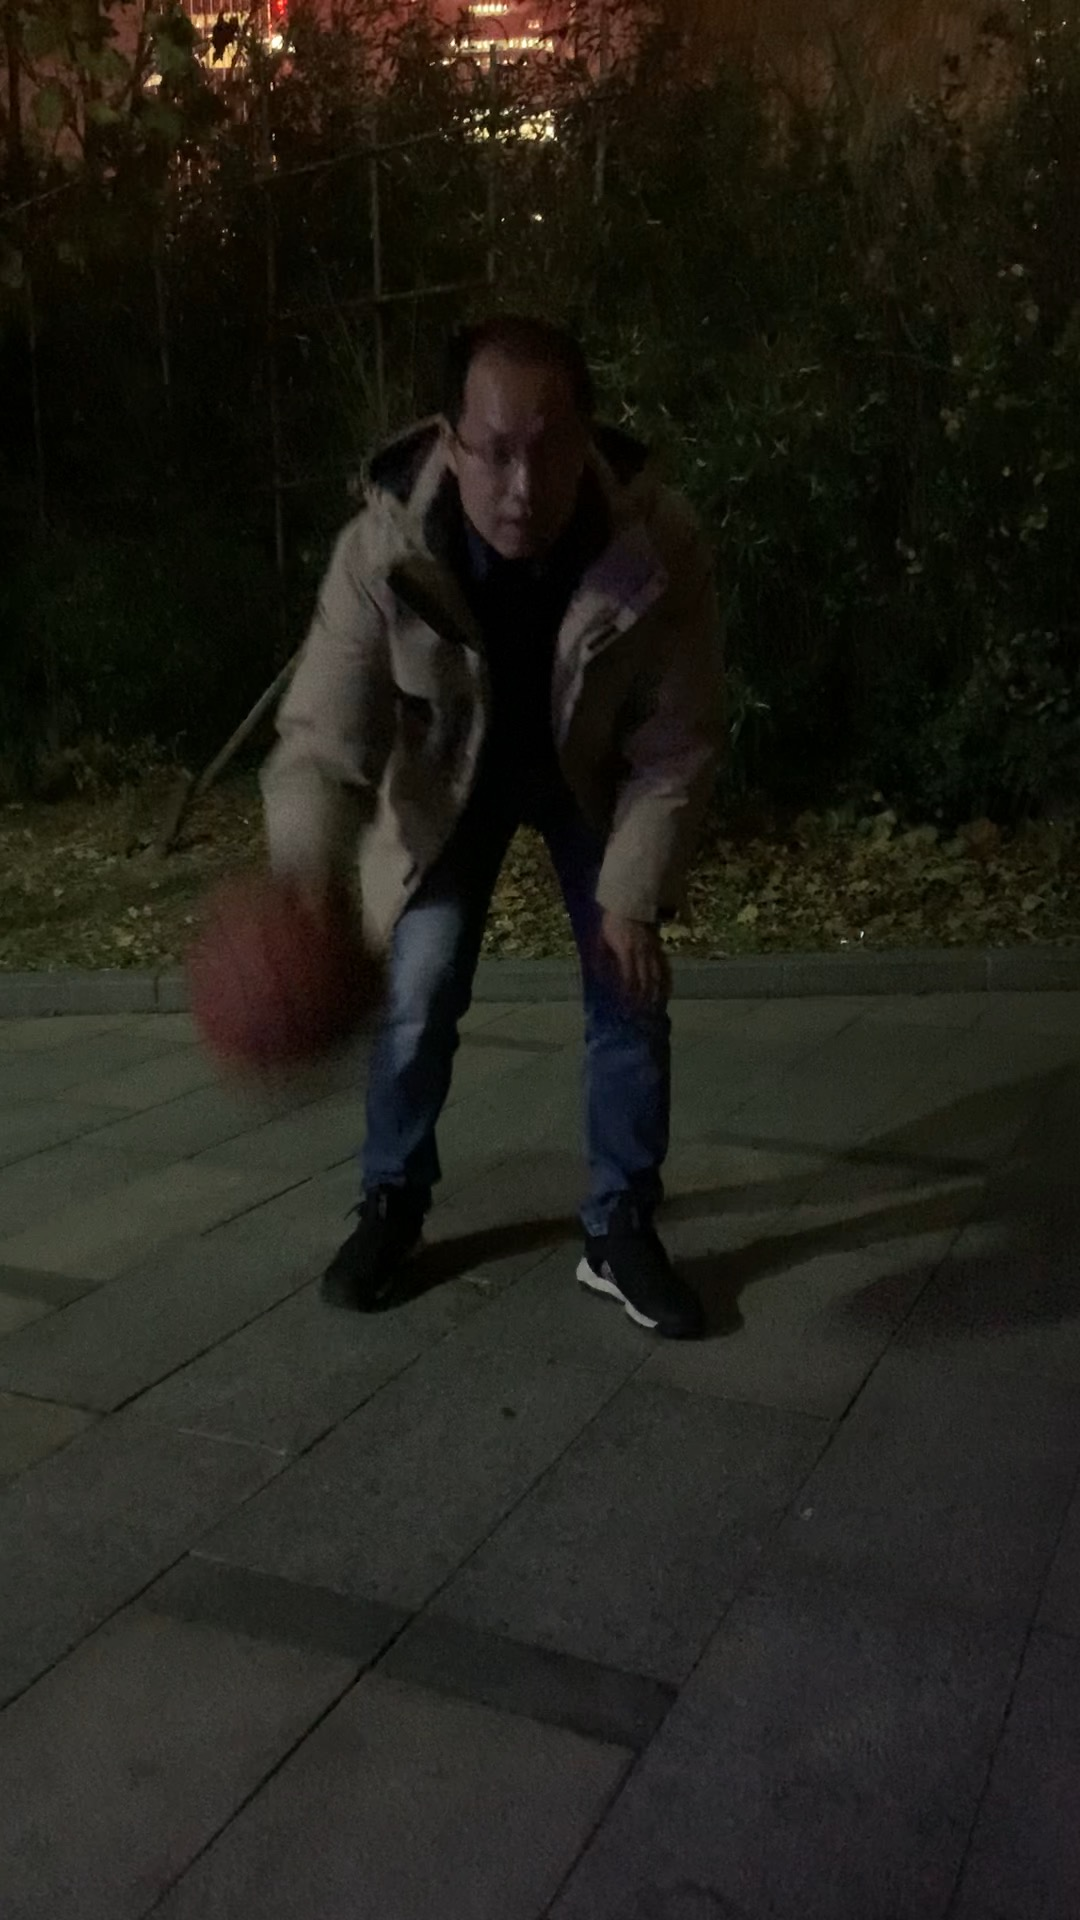ball: (193, 886, 382, 1084)
